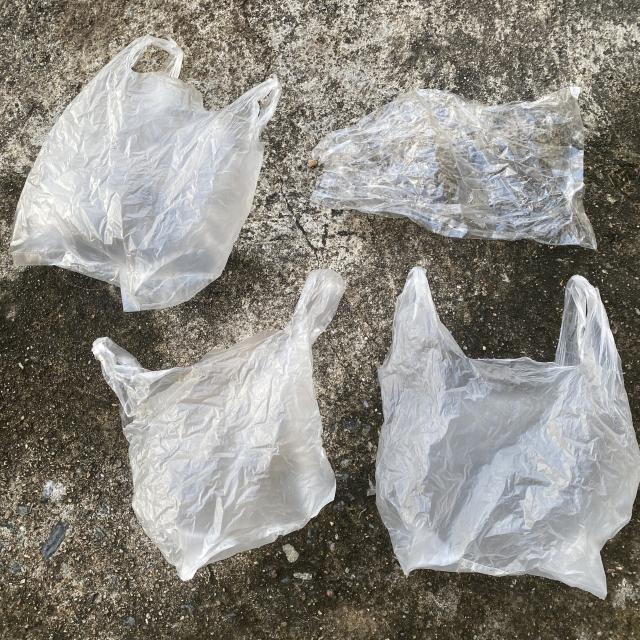Single-layer Plastic: (376, 268, 640, 599), (92, 269, 345, 580), (11, 36, 281, 311), (311, 86, 596, 249)
